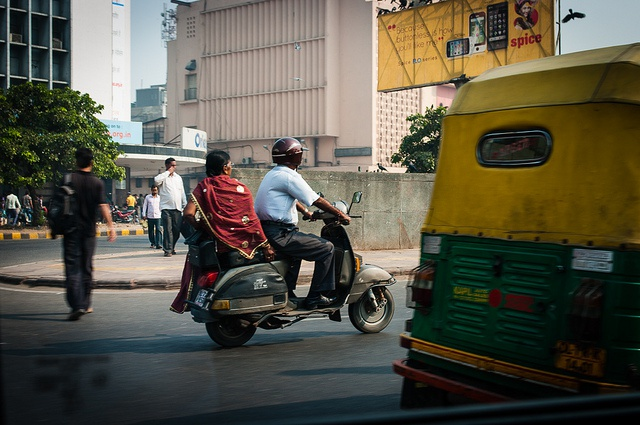non-vehicle: (185, 209, 400, 348), (110, 204, 135, 222), (16, 209, 31, 225)
